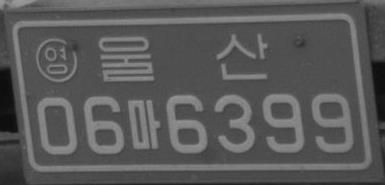0: (36, 95, 78, 155)
3: (214, 93, 256, 154)
6: (166, 93, 208, 154), (83, 95, 125, 155)
9: (310, 92, 354, 153), (262, 92, 305, 154)
마: (127, 99, 159, 149)
영: (35, 37, 77, 83)
울산_D: (97, 32, 269, 83)
